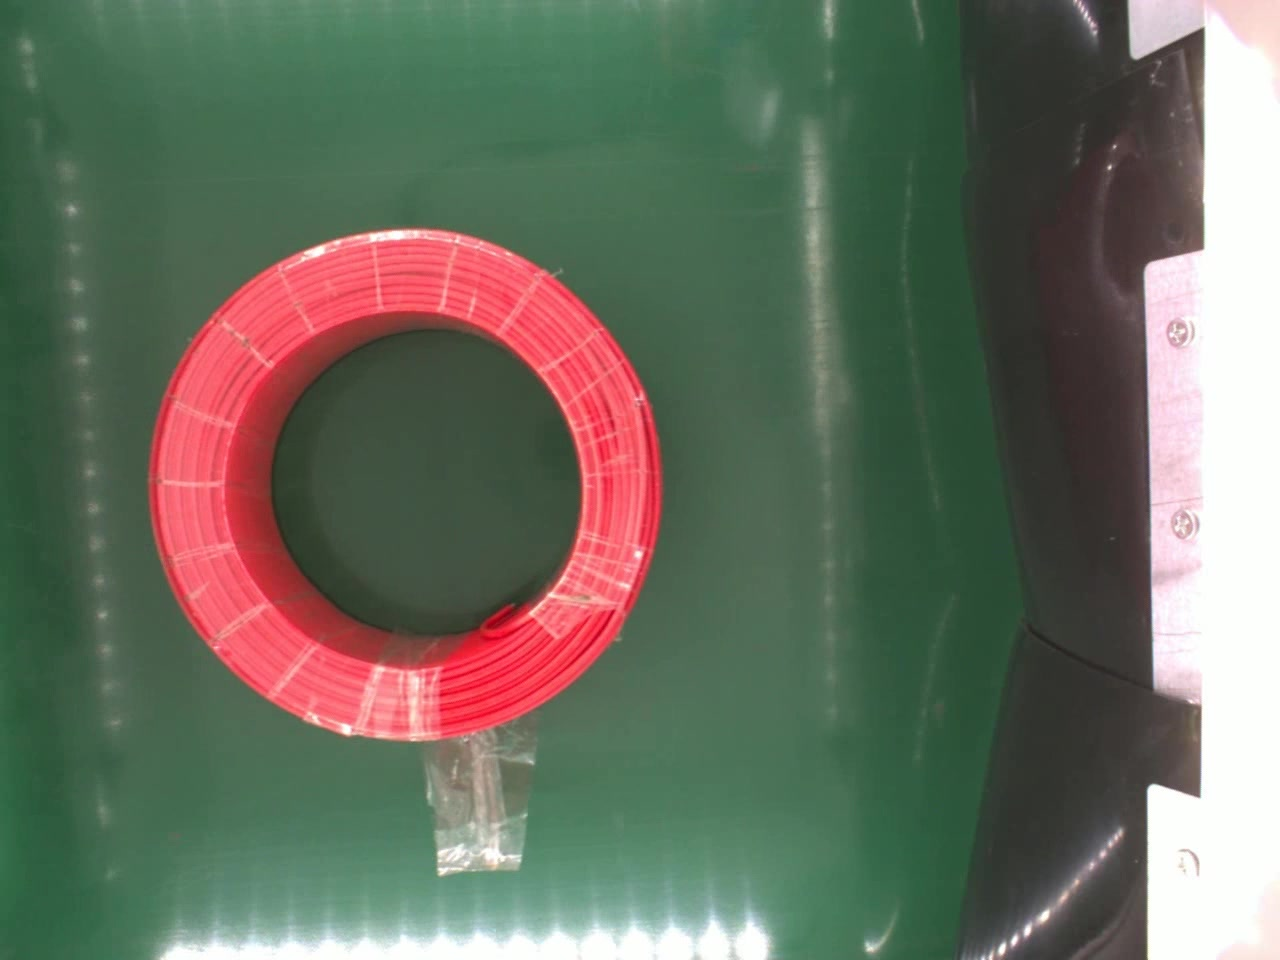red: (139, 223, 669, 746)
